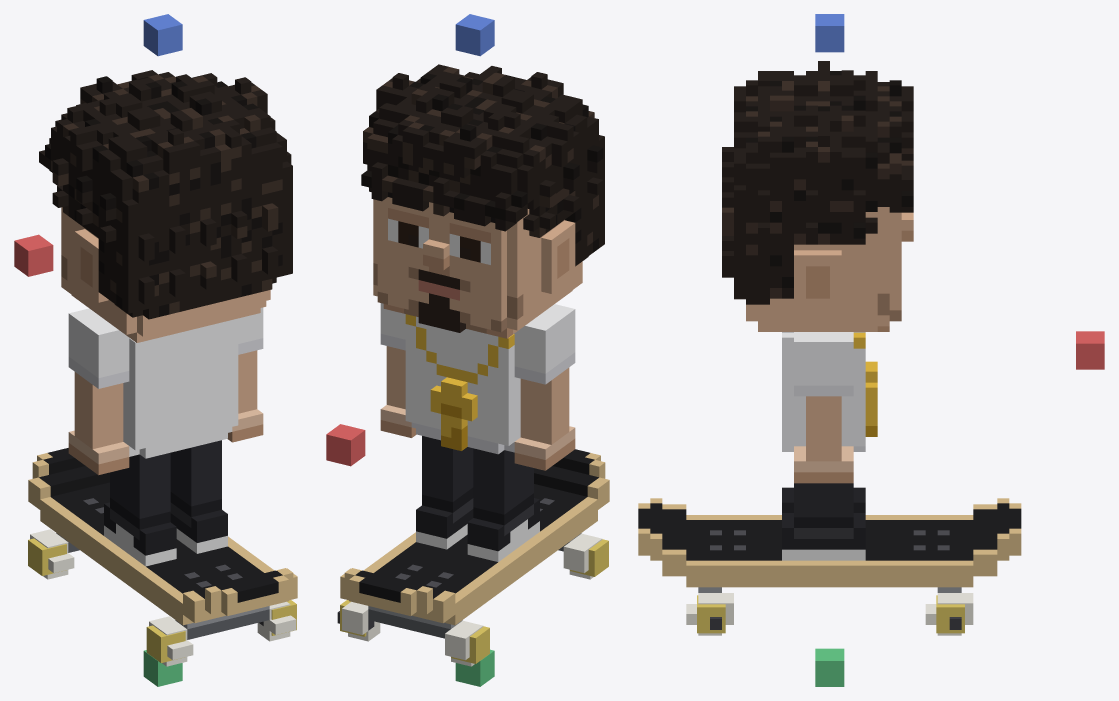
Rendered from GregginiRicciolini.glb.
3 views of the same model, side by side, from view 1: azimuth 30°, elevation 25°; view 2: azimuth 150°, elevation 25°; view 3: azimuth 270°, elevation 25° (orthographic).
Visible parts, largest first — view 1: GregginiRicciolini_Head10, GregginiRicciolini_Board1, GregginiRicciolini_Body, GregginiRicciolini_Arm9, GregginiRicciolini_Leg7, GregginiRicciolini_Leg6, GregginiRicciolini_Arm8, GregginiRicciolini_Top, GregginiRicciolini_Front, GregginiRicciolini_Prop5, GregginiRicciolini_Prop3, GregginiRicciolini_Built (+3 smaller); view 2: GregginiRicciolini_Head10, GregginiRicciolini_Board1, GregginiRicciolini_Body, GregginiRicciolini_Arm9, GregginiRicciolini_Leg7, GregginiRicciolini_Leg6, GregginiRicciolini_Arm8, GregginiRicciolini_Top, GregginiRicciolini_Front, GregginiRicciolini_Prop2, GregginiRicciolini_Prop5, GregginiRicciolini_Prop3 (+3 smaller); view 3: GregginiRicciolini_Head10, GregginiRicciolini_Board1, GregginiRicciolini_Arm8, GregginiRicciolini_Leg6, GregginiRicciolini_Body, GregginiRicciolini_Top, GregginiRicciolini_Built, GregginiRicciolini_Front, GregginiRicciolini_Prop2, GregginiRicciolini_Prop4, GregginiRicciolini_Pivot2, GregginiRicciolini_Pivot4.
Part boxes in pixels (x1,y1,x2,y2): GregginiRicciolini_Head10: [39, 70, 292, 342]; GregginiRicciolini_Board1: [28, 448, 297, 639]; GregginiRicciolini_Body: [123, 318, 238, 458]; GregginiRicciolini_Arm9: [68, 308, 129, 475]; GregginiRicciolini_Leg7: [104, 452, 176, 566]; GregginiRicciolini_Leg6: [170, 440, 227, 553]; GregginiRicciolini_Arm8: [227, 307, 263, 442]; GregginiRicciolini_Top: [143, 14, 182, 56]; GregginiRicciolini_Front: [14, 234, 53, 276]; GregginiRicciolini_Prop5: [149, 616, 193, 666]; GregginiRicciolini_Prop3: [30, 529, 74, 579]; GregginiRicciolini_Built: [143, 650, 182, 686]; GregginiRicciolini_Head10: [361, 64, 604, 338]; GregginiRicciolini_Board1: [340, 449, 609, 638]; GregginiRicciolini_Body: [405, 314, 520, 454]; GregginiRicciolini_Arm9: [514, 304, 575, 470]; GregginiRicciolini_Leg7: [467, 448, 539, 561]; GregginiRicciolini_Leg6: [416, 436, 473, 549]; GregginiRicciolini_Arm8: [380, 303, 416, 437]; GregginiRicciolini_Top: [455, 14, 494, 56]; GregginiRicciolini_Front: [326, 424, 365, 466]; GregginiRicciolini_Prop2: [337, 601, 380, 641]; GregginiRicciolini_Prop5: [563, 533, 602, 579]; GregginiRicciolini_Prop3: [445, 620, 483, 666]; GregginiRicciolini_Head10: [722, 61, 913, 331]; GregginiRicciolini_Board1: [638, 498, 1021, 592]; GregginiRicciolini_Arm8: [794, 332, 853, 483]; GregginiRicciolini_Leg6: [782, 483, 865, 560]; GregginiRicciolini_Body: [782, 332, 877, 451]; GregginiRicciolini_Top: [815, 14, 844, 52]; GregginiRicciolini_Built: [815, 648, 844, 686]; GregginiRicciolini_Front: [1076, 331, 1104, 369]; GregginiRicciolini_Prop2: [925, 593, 973, 635]; GregginiRicciolini_Prop4: [686, 593, 733, 635]; GregginiRicciolini_Pivot2: [936, 595, 964, 633]; GregginiRicciolini_Pivot4: [697, 595, 725, 633].
Size of the model in its own units: 1.88 by 6.35 by 4.06.
1 material, 1 textured.
